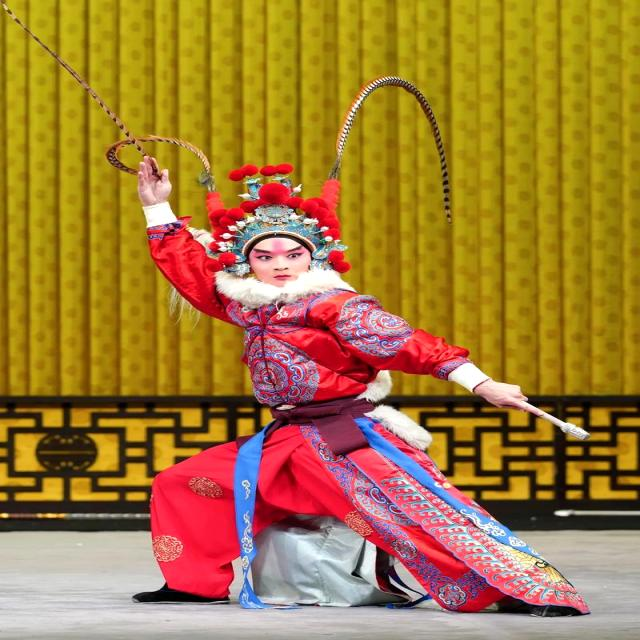Reeves-s Pheasant: (0, 0, 214, 190), (328, 76, 451, 224)
